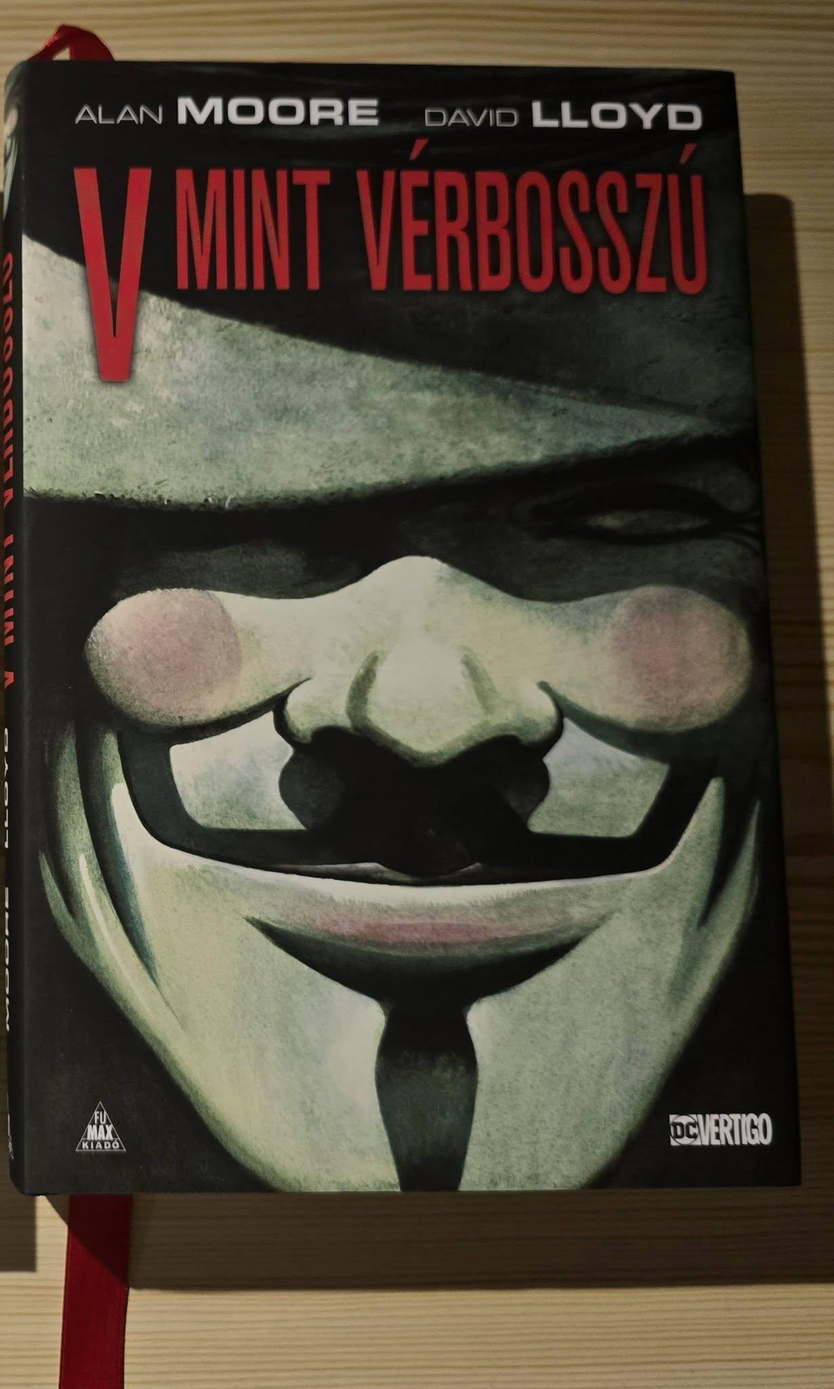comic: (1, 58, 798, 1192)
